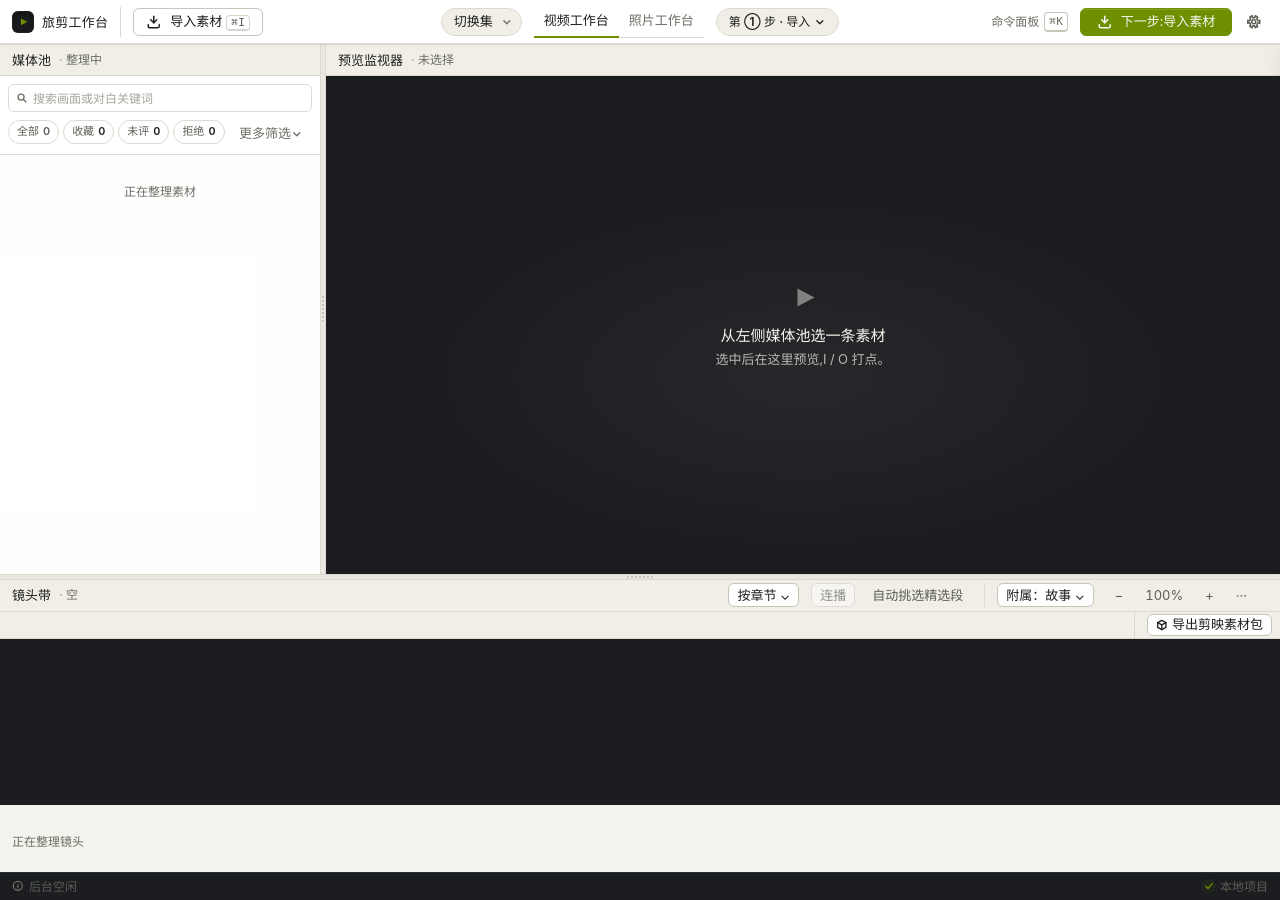
Scenario: 冻结的 AX 名(冒烟脚本的锚点) › 五个 landmark、四个顶栏按钮、五个附属带 tab 一字不差
The width and height of the screenshot is (1280, 900).
Expected: the button "导入素材 ⌘I" is shown, [133,8,263,36]
Expected: the button with aria-label "流水线下一步" is shown, [1080,8,1232,36]
Click the button "附属：故事 ⌄".
click(1046, 595)  # box [997,583,1094,607]
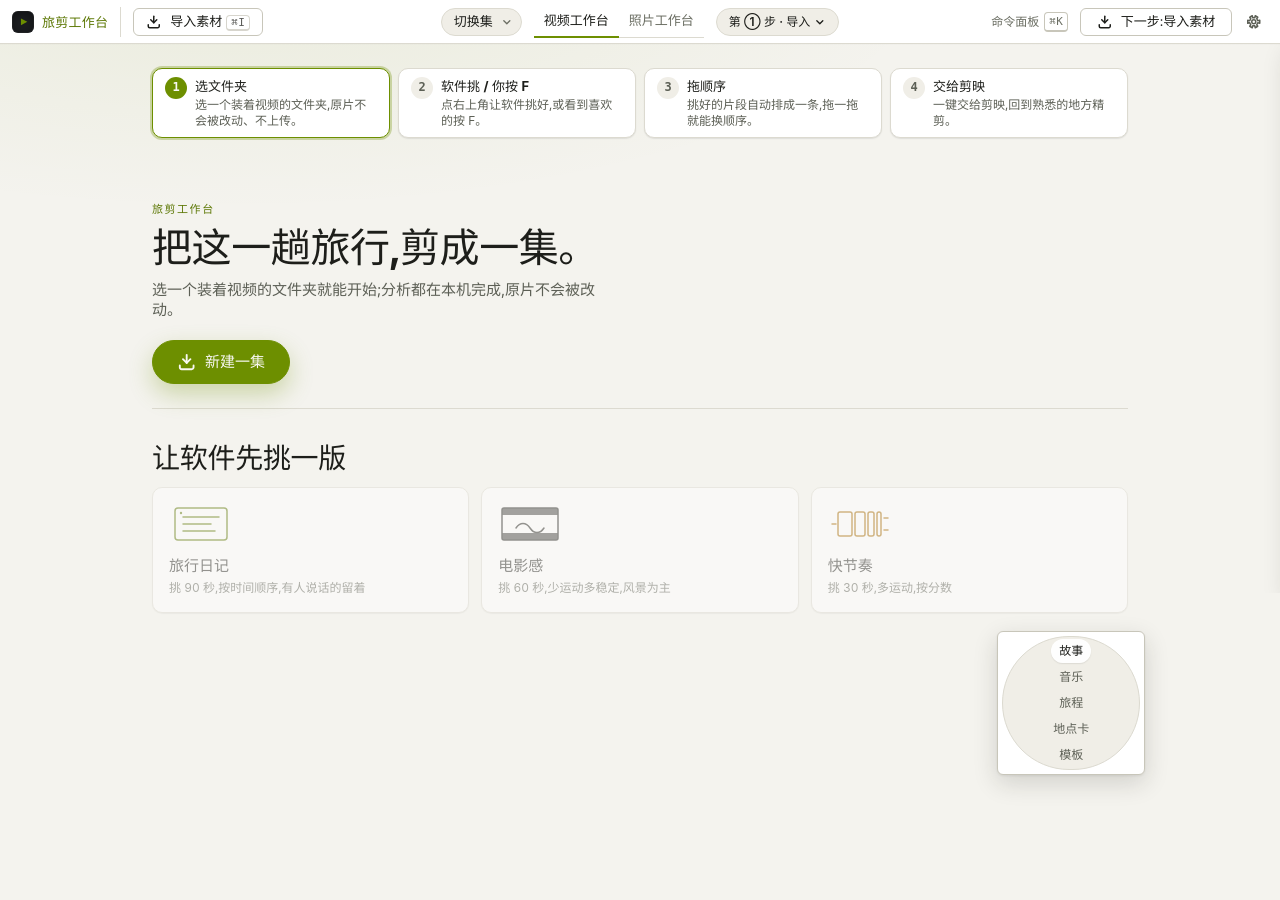
Expected: the tabs read "故事", "音乐", "旅程", "地点卡", "模板", in this order, [1051,638,1091,662]; [1051,664,1091,688]; [1051,690,1091,714]; [1045,716,1097,740]; [1051,742,1091,766]
